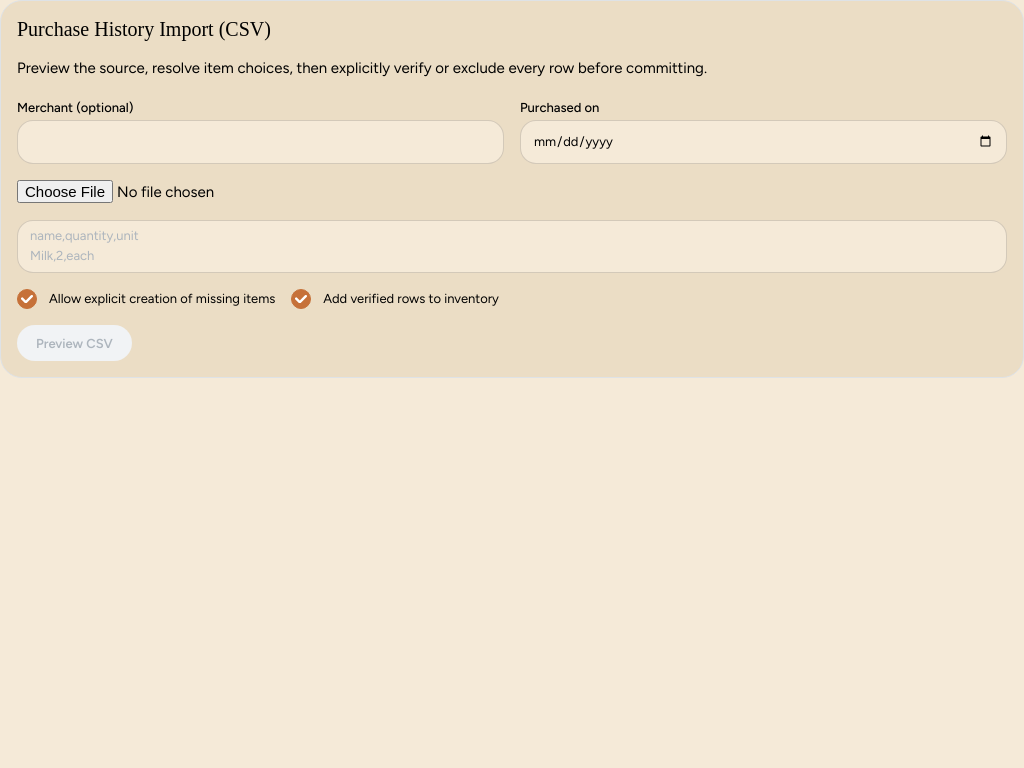
Test: Reviewed purchase CSV › keeps low-score hints advisory without selecting or verifying an item
This screenshot has width=1024, height=768.
Type "original CSV" into the text box named "Purchase CSV text" at (512,246), box [17,220,1007,273]
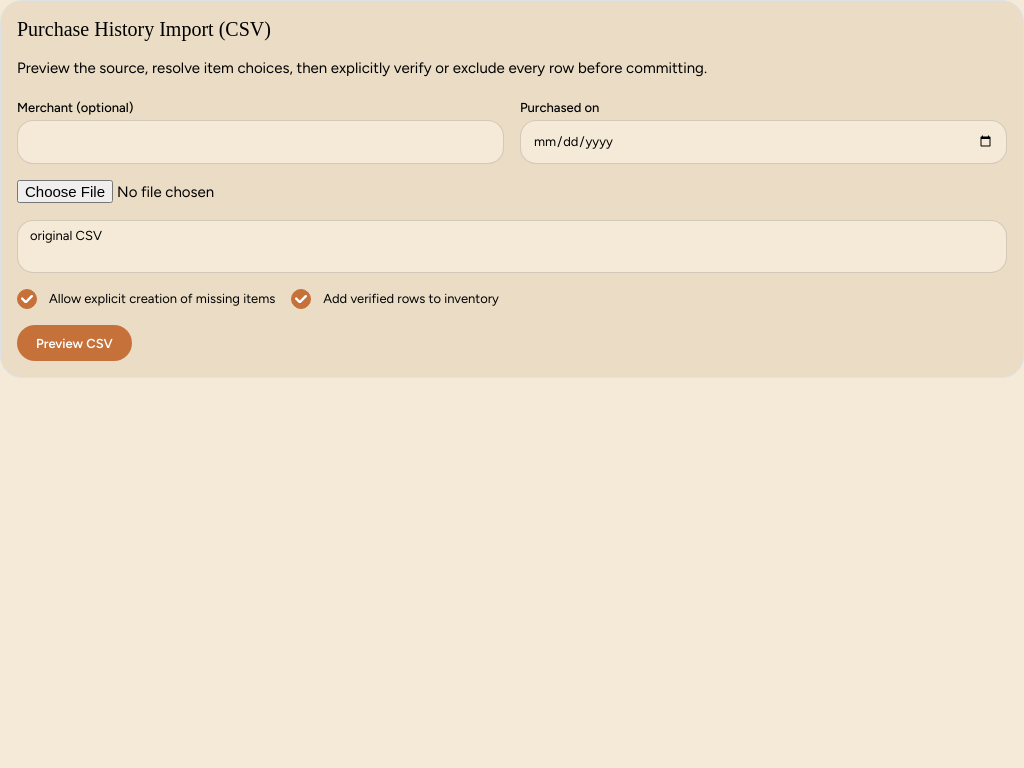
Click the button "Preview CSV" at (74,343), box [17,325,132,361]
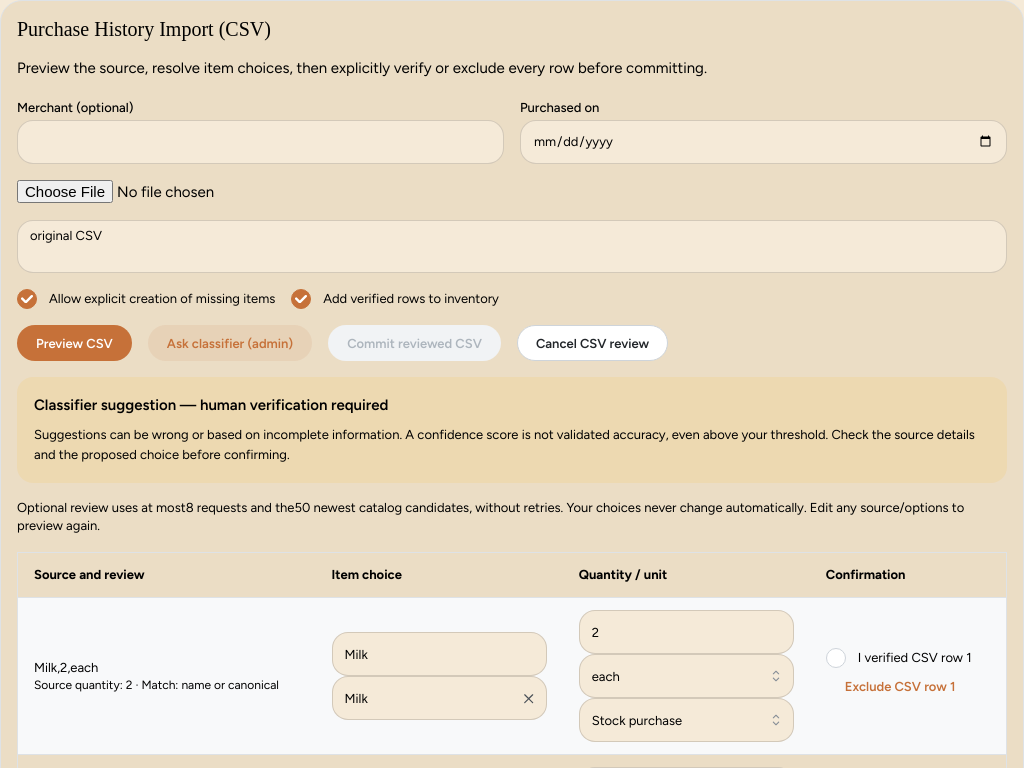
Expected: the field named "CSV item name 1" is shown, [332,632,547,676]
Click the button "Ask classifier (admin)" at (230,343), box [148,325,312,361]
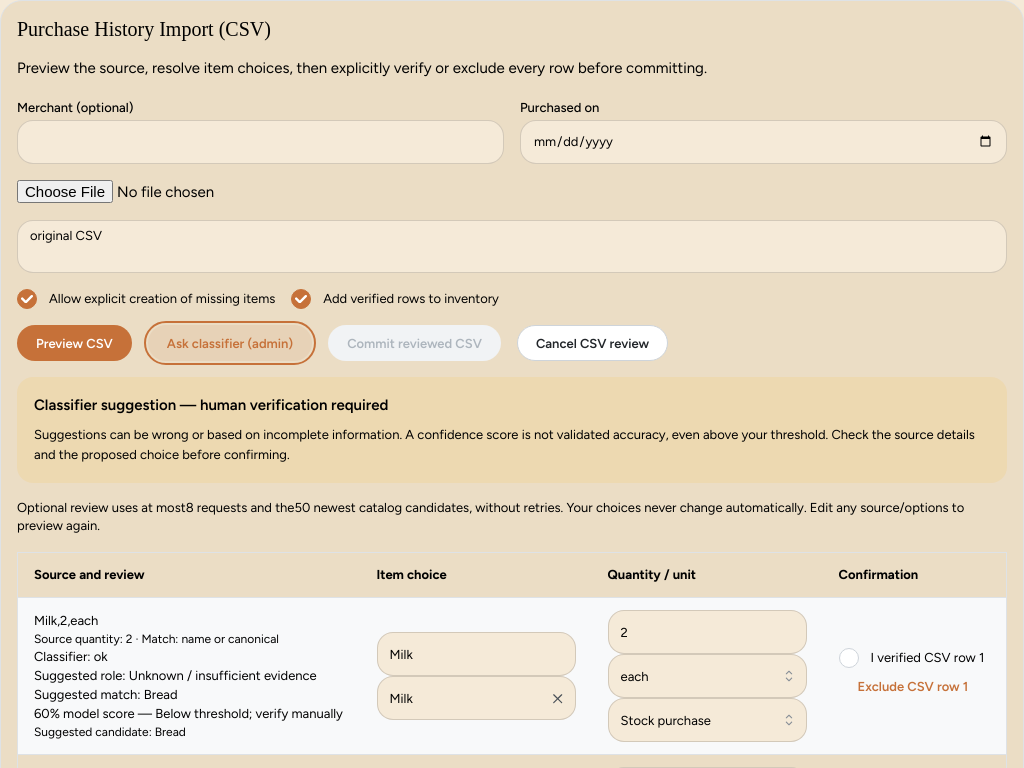
Expected: the field named "CSV catalog item 1" holds "Milk", [376,676,576,720]
Expected: the checkbox labelled "I verified CSV row 1" is not checked, [839,648,859,668]
Expected: the text "60% model score — Below threshold; verify manually" is shown, [34,705,344,724]
